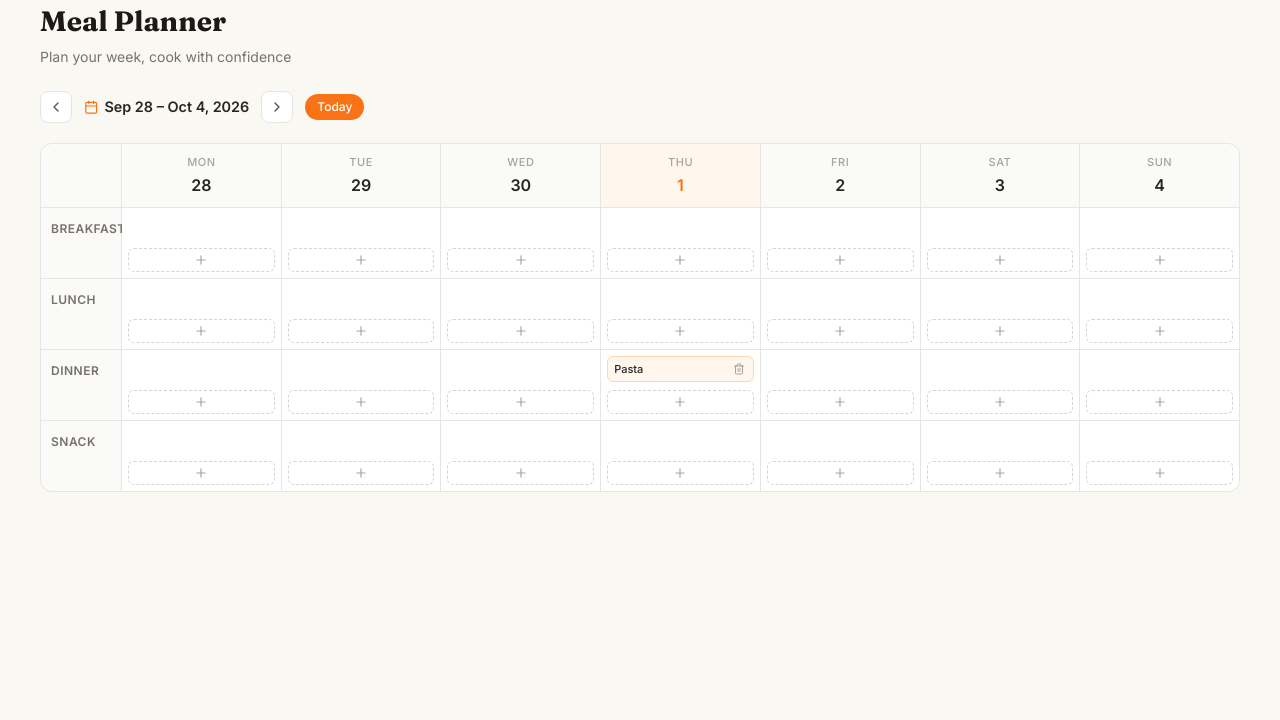
it: MealPlanner page › opens add modal on cell plus click
Expected: the heading "Meal Planner" is shown, [40,4,226,38]
What coordinates should you click on to do the following:
click the 1st button titled "Add meal"
I would click on:
 (201, 260)
Its box is [128,248,275,272].
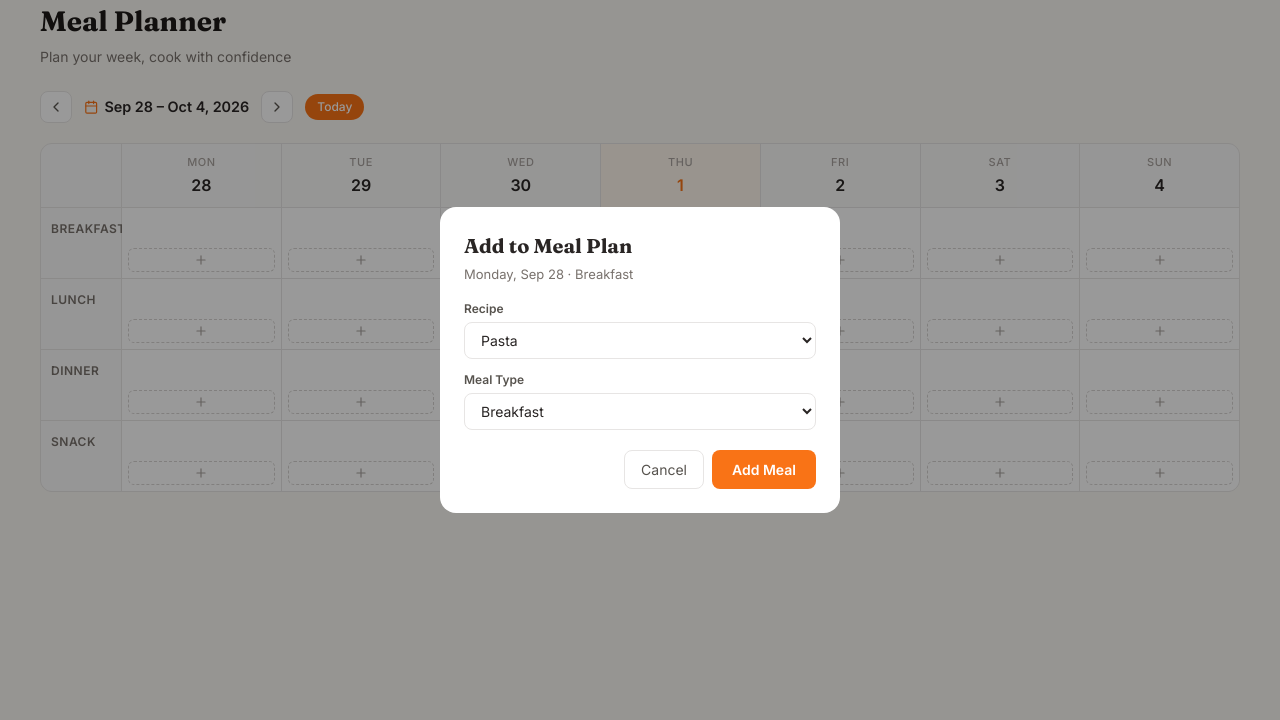
Expected: the heading "Add to Meal Plan" is shown, [464,233,632,258]
